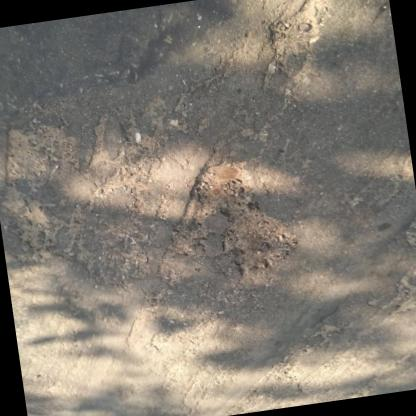pothole: (216, 208, 306, 279), (259, 0, 353, 58), (188, 156, 262, 219)
